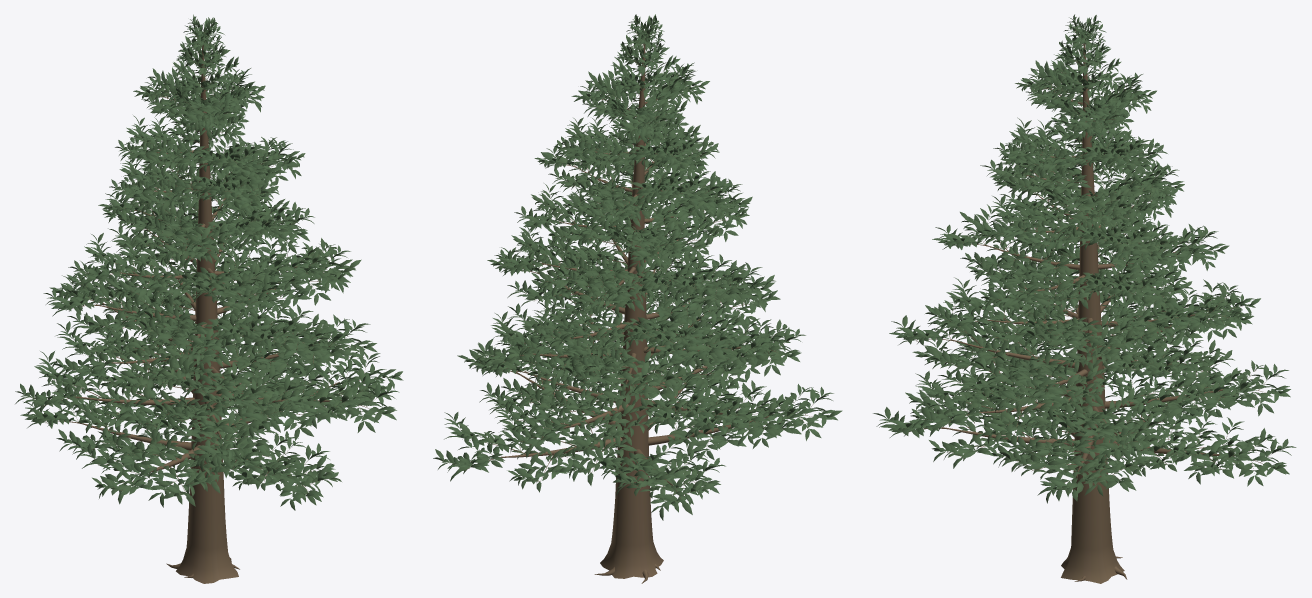
File: corealm_pine_1.glb
The picture shows the model from 3 angles, left to right: view 1: azimuth 30°, elevation 25°; view 2: azimuth 150°, elevation 25°; view 3: azimuth 270°, elevation 25°; orthographic projection.
Parts seen in each view (by area): view 1: corealm_pine_1; view 2: corealm_pine_1; view 3: corealm_pine_1.
Boxes of the visible parts, box(x1,y1,x2,y2) form: corealm_pine_1: box(15, 14, 403, 583); corealm_pine_1: box(433, 14, 842, 583); corealm_pine_1: box(873, 14, 1296, 583).
Size of the model in its own units: 6.93 by 10.55 by 7.41.
